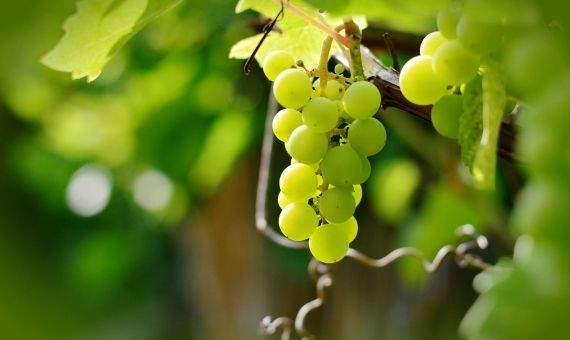Green grapes: (281, 63, 374, 275)
